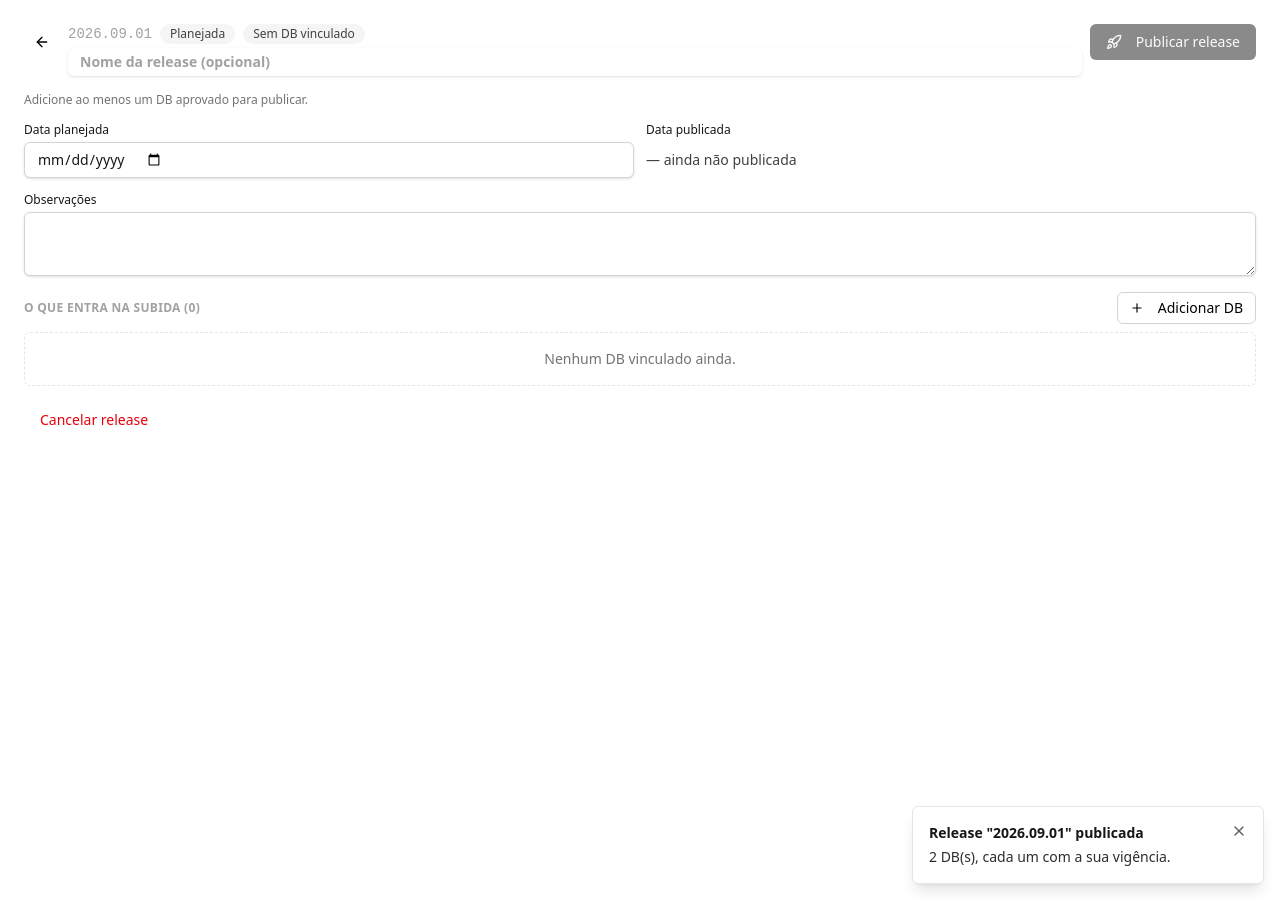
Test: Release — criar, vincular DB ≥ APPROVED e publicar em lote (CT-GOV-03) › DB ainda em DRAFT não aparece no seletor "Adicionar DB à release"
The width and height of the screenshot is (1280, 900).
Click the button "Adicionar DB" at (1186, 308), box 1117,292 -> 1256,324
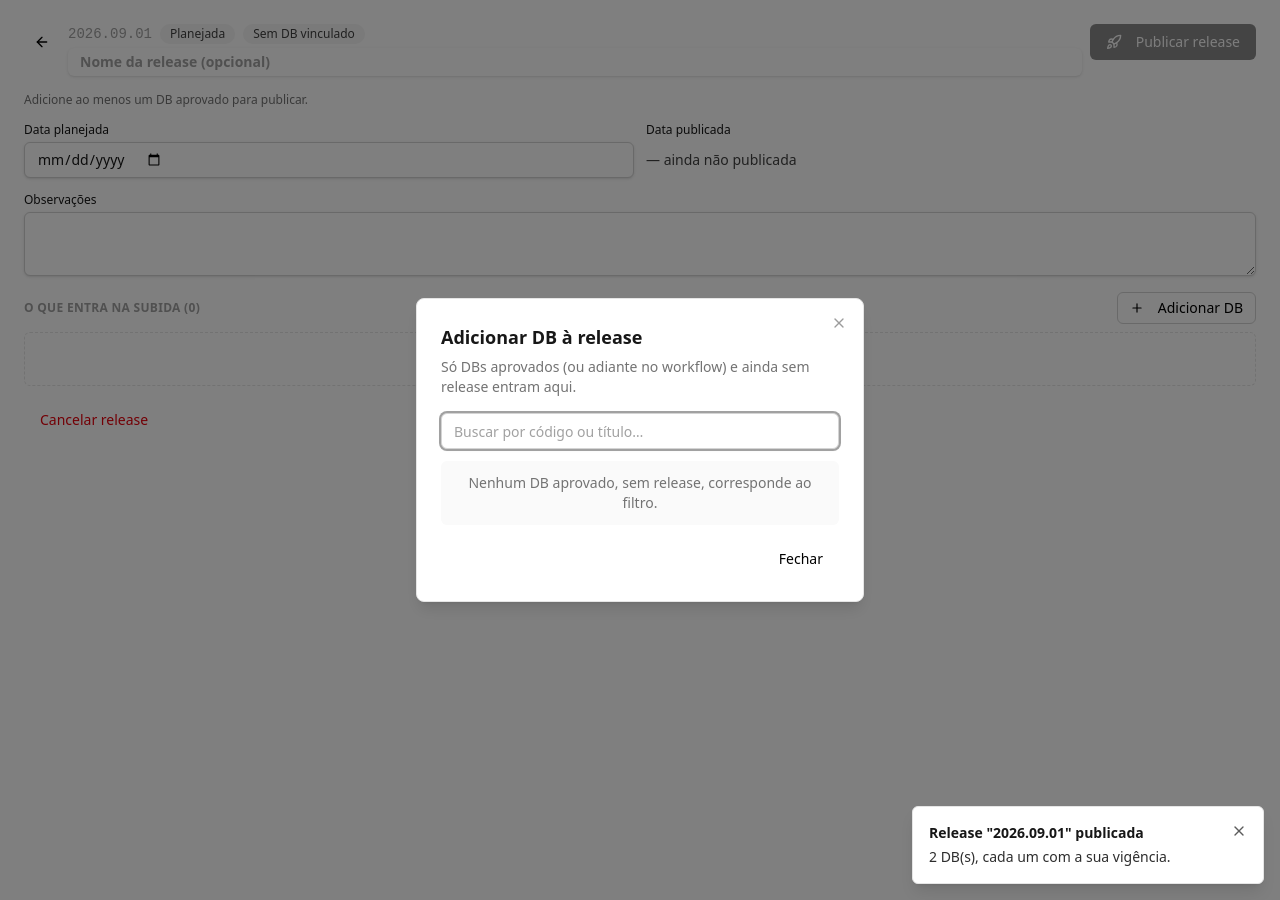
Check: the list item "Nenhum DB aprovado, sem release, corresponde ao filtro." is shown, box 441,461 -> 839,525
